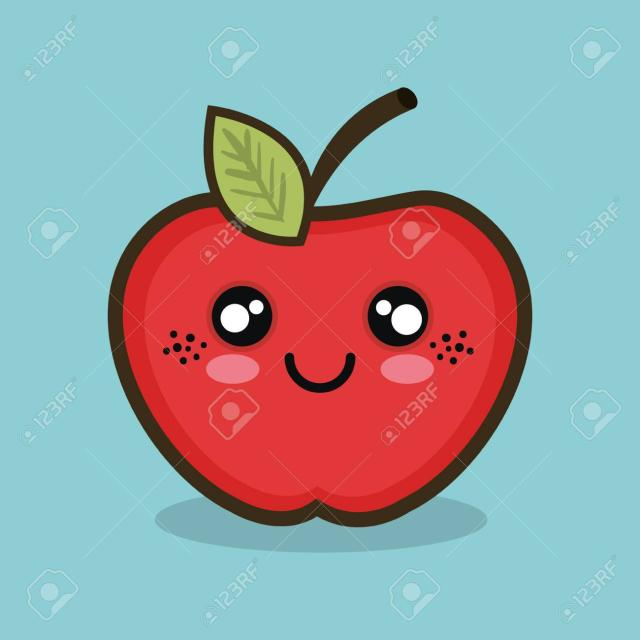manzana: (92, 66, 542, 559)
